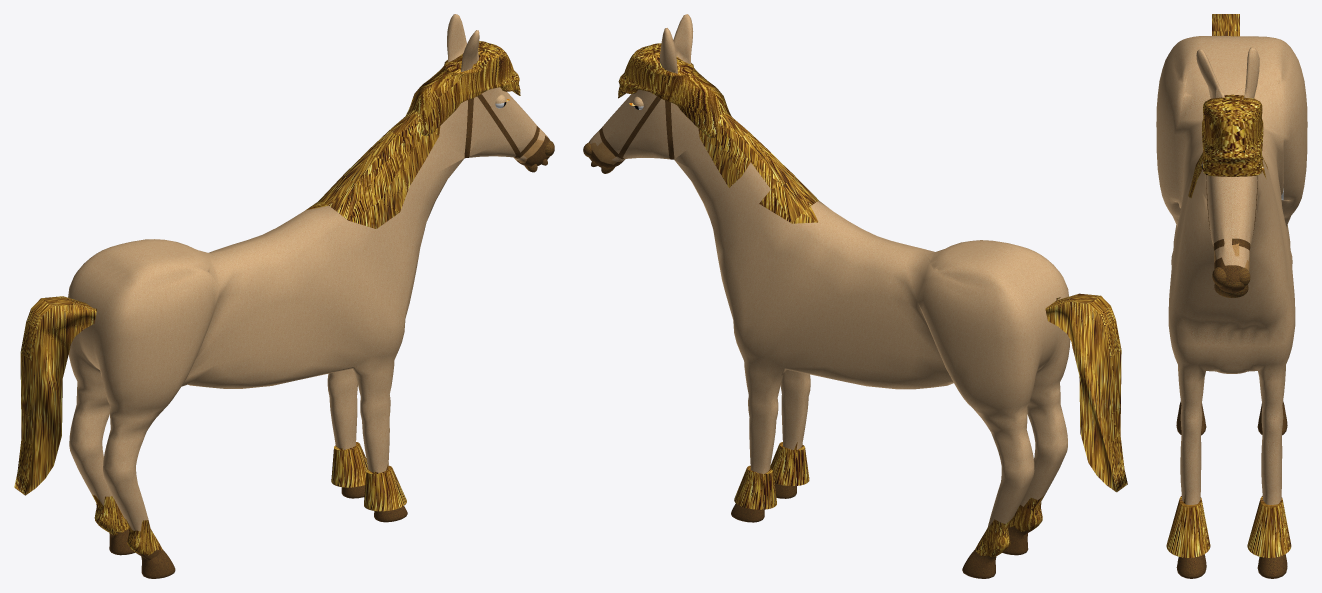
Rendered from Caballo 1.fbx.
The picture shows the model from 3 angles, left to right: view 1: azimuth 30°, elevation 25°; view 2: azimuth 150°, elevation 25°; view 3: azimuth 270°, elevation 25°; orthographic projection. The views are drawn at different scales.
Parts seen in each view (by area): view 1: Gruppe_41_1, Group1, Subsurf1, Group2, Group3; view 2: Gruppe_41_1, Group1, Subsurf1, Group3, Group2; view 3: Gruppe_41_1, Subsurf1, Group2, Group3, Group1, Gruppe_16_1_2, Gruppe_16_1_4.
Boxes of the visible parts, left/top/right/bottom form: Gruppe_41_1: left=68, top=14, right=549, bottom=578; Group1: left=14, top=296, right=96, bottom=495; Subsurf1: left=406, top=41, right=520, bottom=135; Group2: left=364, top=465, right=406, bottom=511; Group3: left=331, top=442, right=367, bottom=487; Gruppe_41_1: left=589, top=14, right=1070, bottom=578; Group1: left=1045, top=293, right=1127, bottom=492; Subsurf1: left=618, top=43, right=731, bottom=137; Group3: left=734, top=465, right=776, bottom=509; Group2: left=770, top=442, right=809, bottom=485; Gruppe_41_1: left=1156, top=36, right=1307, bottom=578; Subsurf1: left=1202, top=94, right=1263, bottom=176; Group2: left=1166, top=496, right=1210, bottom=557; Group3: left=1247, top=496, right=1291, bottom=557; Group1: left=1212, top=14, right=1239, bottom=36; Gruppe_16_1_2: left=1214, top=284, right=1248, bottom=297; Gruppe_16_1_4: left=1212, top=267, right=1226, bottom=286.
Bounding box in the file's own units: 2.45 × 2.04 × 0.4813.
